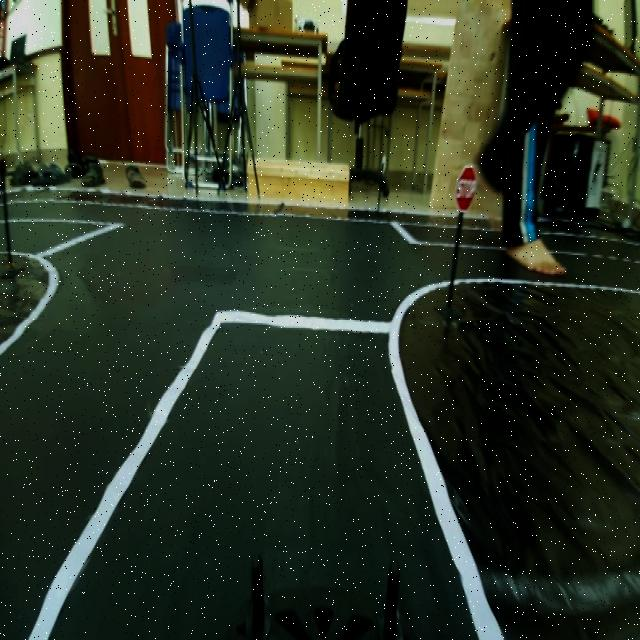stop: (451, 154, 479, 212)
